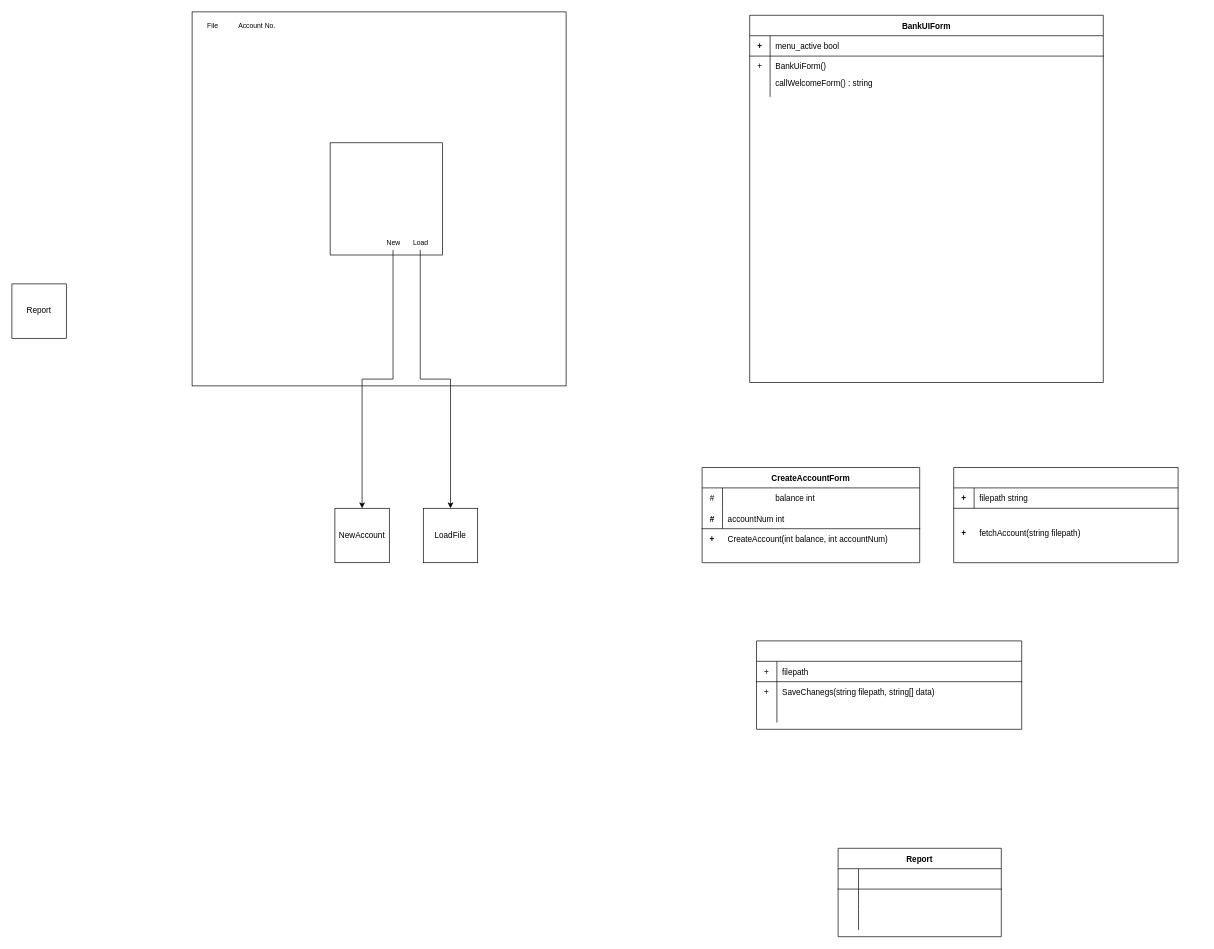
The diagram is 1214 pixels wide and 949 high, and some of its shapes have lost their labels. The box of each missing label's shape, as (x1, y1, x2, y2) in pixels:
ReadDataForm: (953, 467, 1178, 563)
SaveChanges: (756, 640, 1022, 729)
WelcomeForm: (329, 142, 442, 255)
